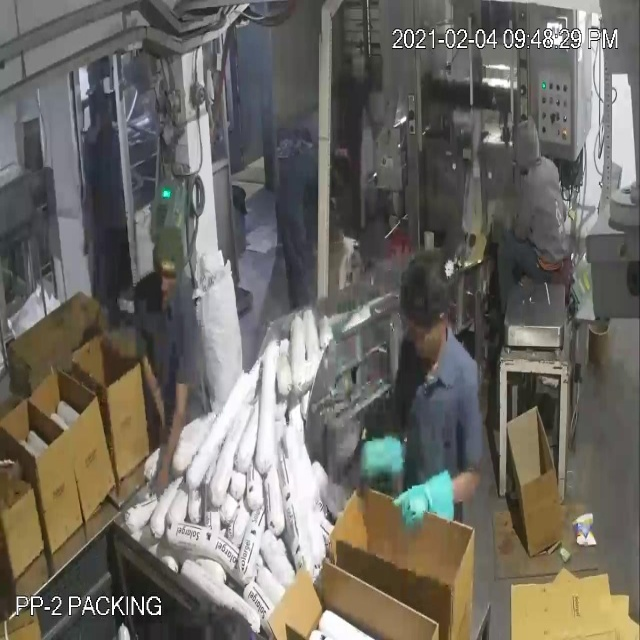Guantes: (392, 453, 459, 542), (360, 407, 411, 495)
Sin_guantes: (154, 366, 192, 499), (130, 336, 169, 434)
